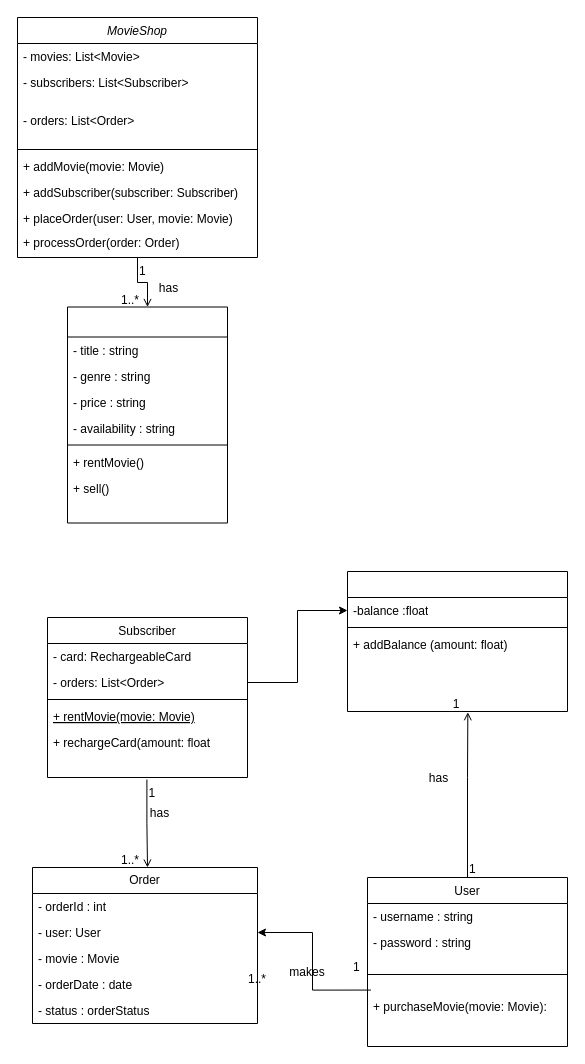
This 585x1064 diagram has some shape labels left out. Here are the shapes that lost their labels. From the top down, the box of each, then its label:
(66, 306, 228, 523): movies
(346, 570, 568, 712): RechargeableCard
